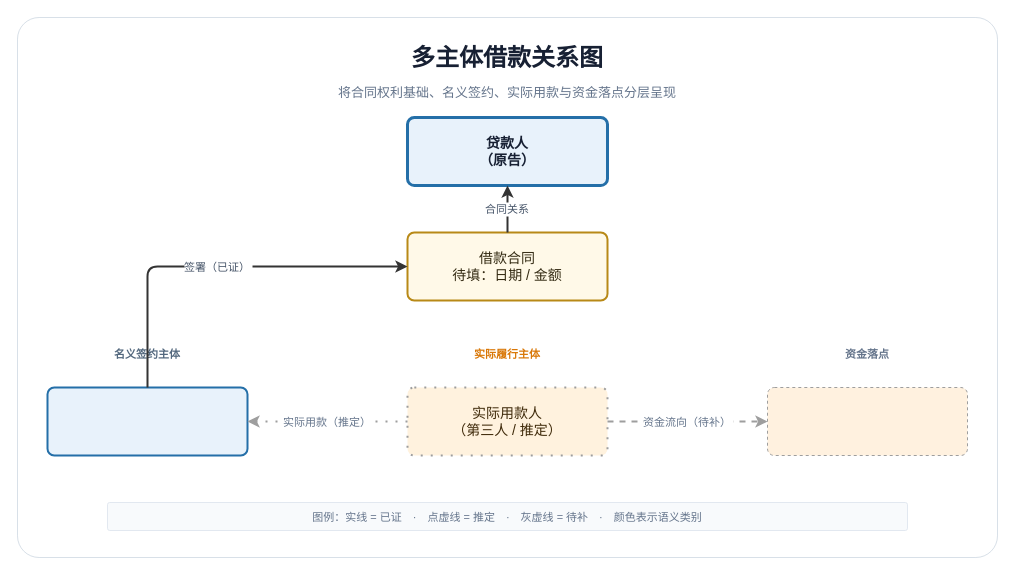
The diagram is 1015 pixels wide and 575 high, and some of its shapes have lost their labels. The centre of each missing label's shape, as x and y in pixels:
名义借款人 （被告）: point (147, 421)
收款账户 待补：开户行: point (867, 421)
